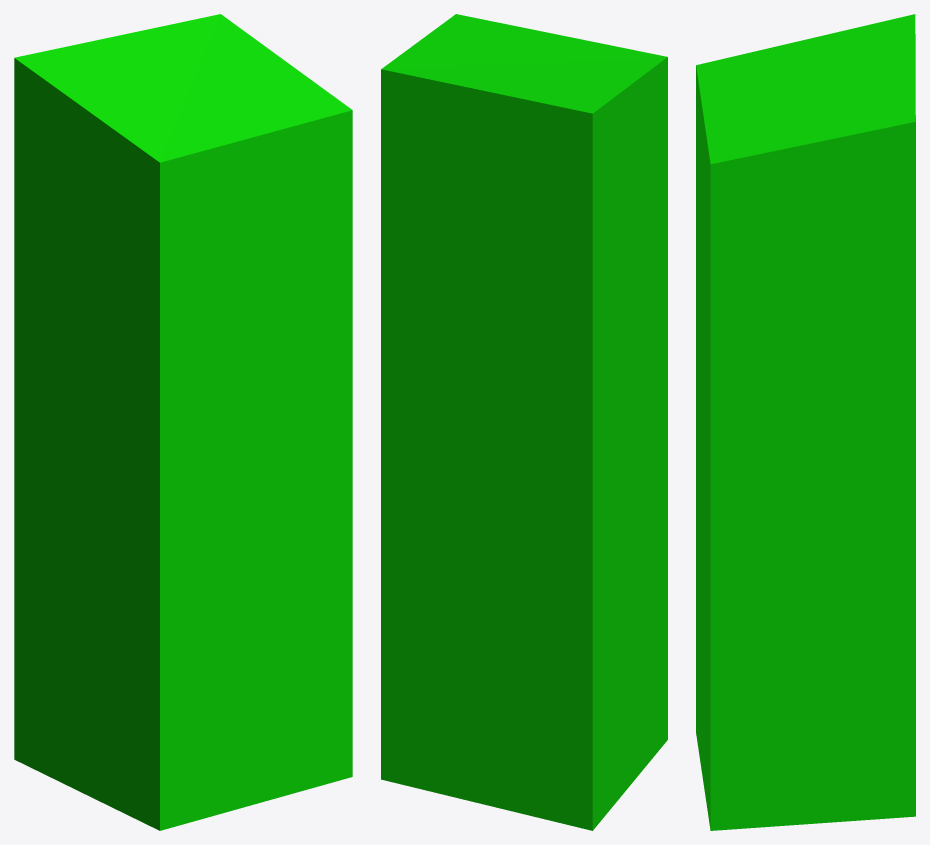
3 views of the same model, side by side, from view 1: azimuth 30°, elevation 25°; view 2: azimuth 150°, elevation 25°; view 3: azimuth 270°, elevation 25° (orthographic). The views are drawn at different scales.
Parts seen in each view (by area): view 1: Plane.010; view 2: Plane.010; view 3: Plane.010.
Part boxes in pixels (x1=…): Plane.010: x1=14, y1=14, x2=352, y2=830; Plane.010: x1=381, y1=14, x2=667, y2=830; Plane.010: x1=696, y1=14, x2=915, y2=830.
Size of the model in its own units: 368 by 1044 by 296.
